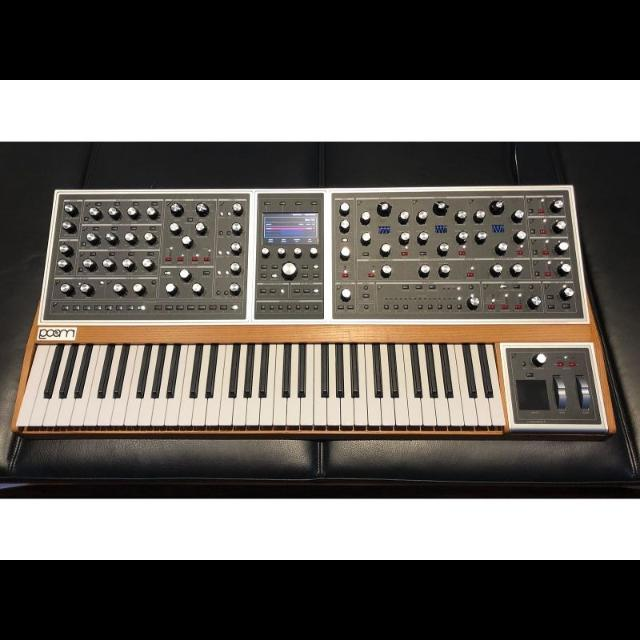Electronic-Keyboard: (16, 180, 620, 444)
